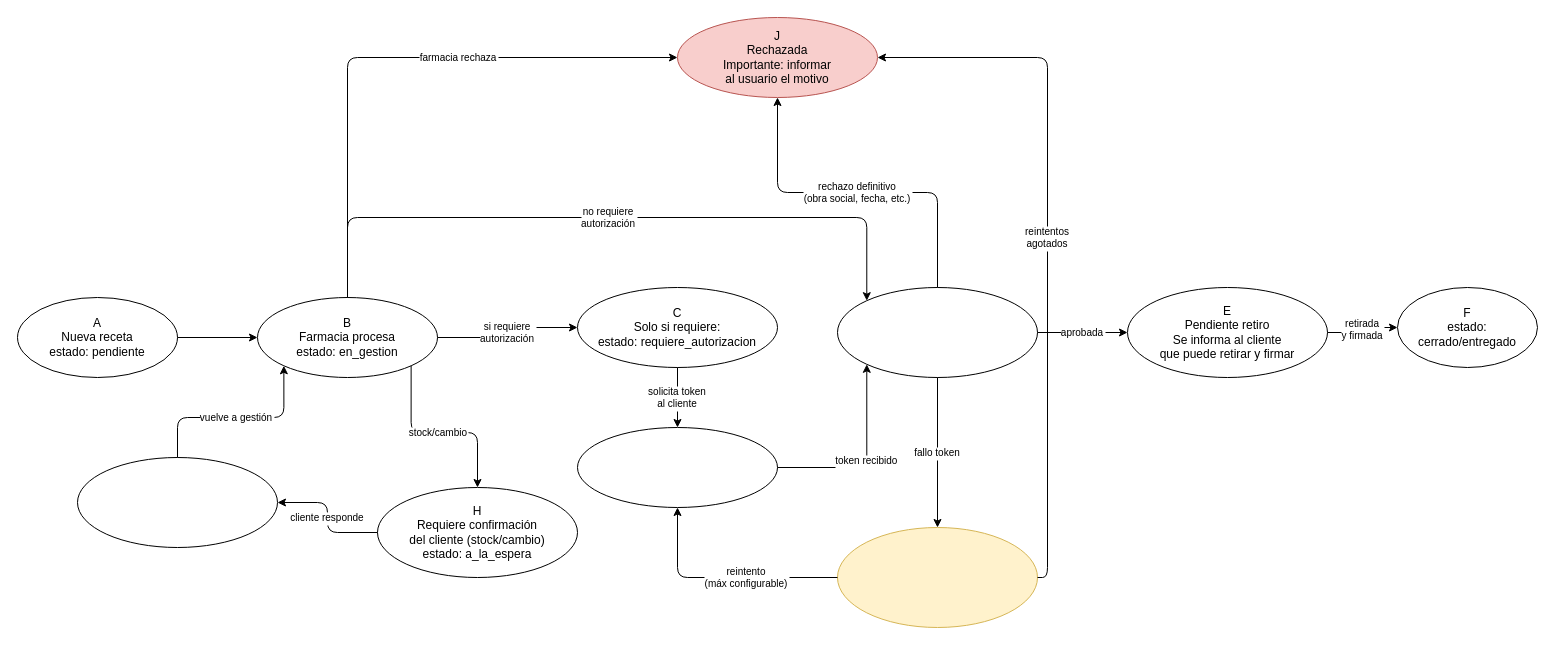
The diagram is 1555 pixels wide and 645 high, and some of its shapes have lost their labels. Here are the shapes that lost their labels. From the top down, the centre of each, then its label:
At [937,332]: "D Procesando Punto definitivo: avanza o rechaza".
At [677,467]: "I Cliente autoriza estado: token_enviado".
At [177,502]: "G Cliente confirma: acepta cambio / rechaza medicamento estado: pendiente".
At [937,577]: "K Error token (inválido, vencido, error sistema) estado: error_token".
